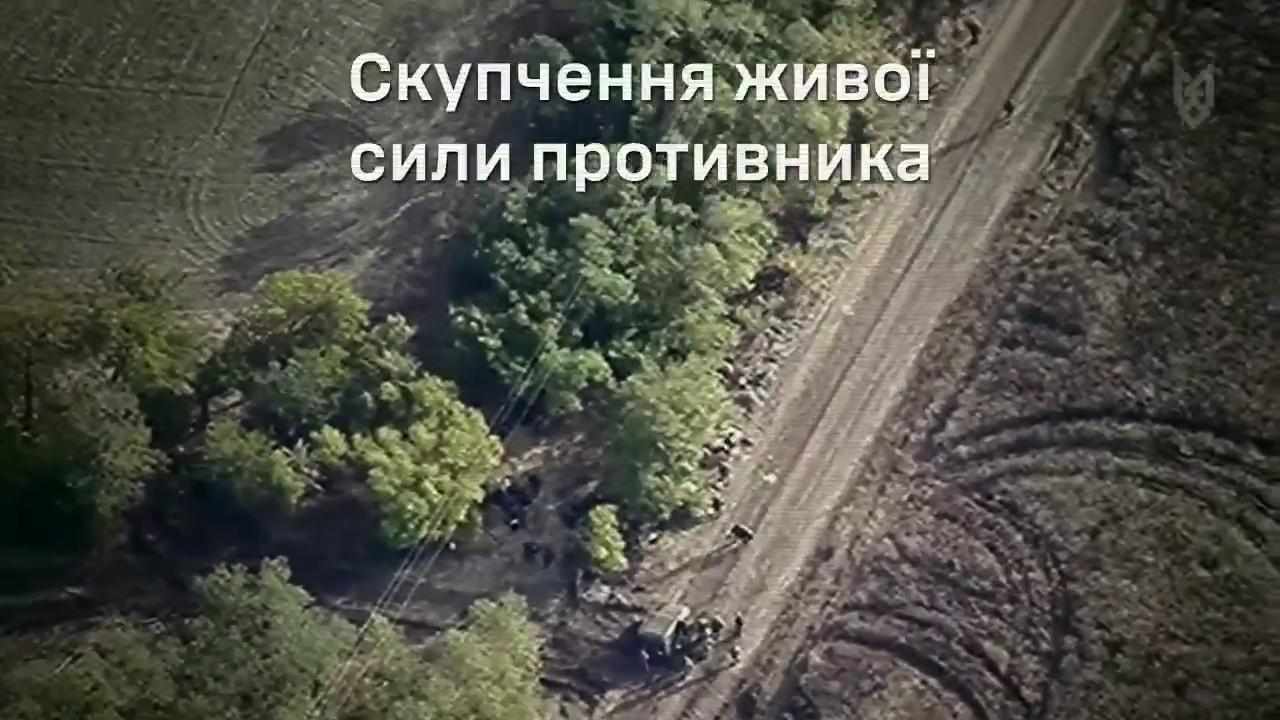tank: (633, 599, 695, 672)
